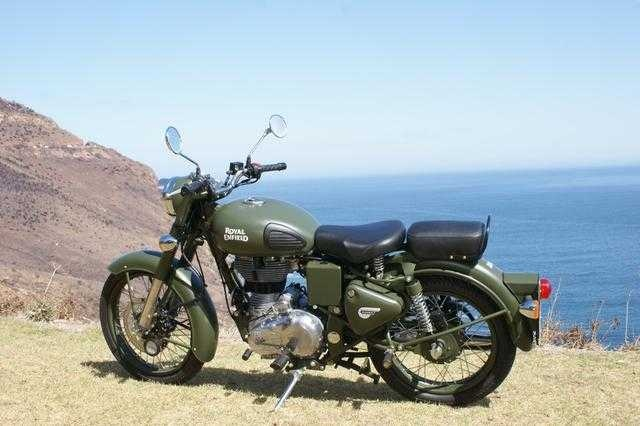motorcycle: (96, 114, 550, 408)
